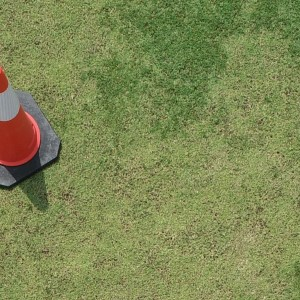traffic cone: (1, 68, 61, 188)
